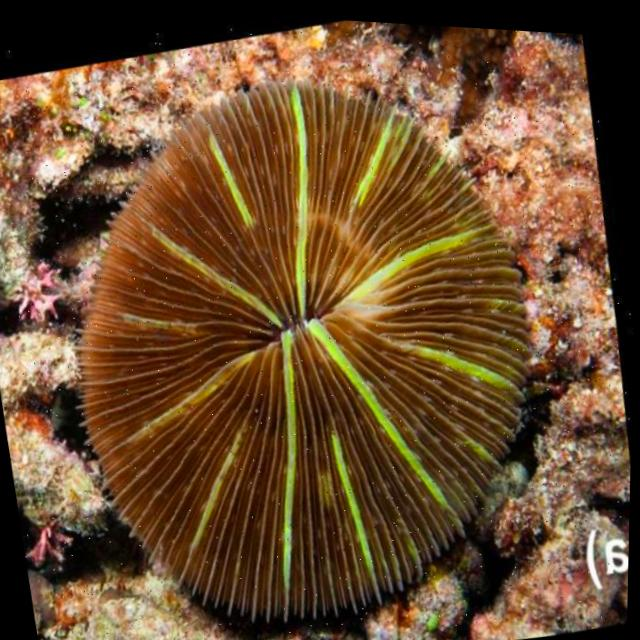Healthy Coral: (13, 17, 599, 640)
